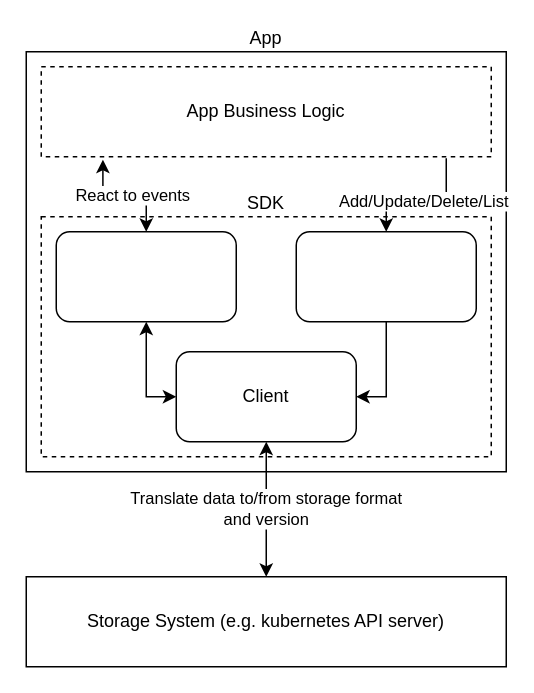
Image size: 534x693. Some labels were removed from this diagram. The shapes that lost their labels are listed below. From the top down, each one's centre as x and y in pixels, then its label:
At [145,276]: "Event-Based Operator".
At [385,276]: "Store".
